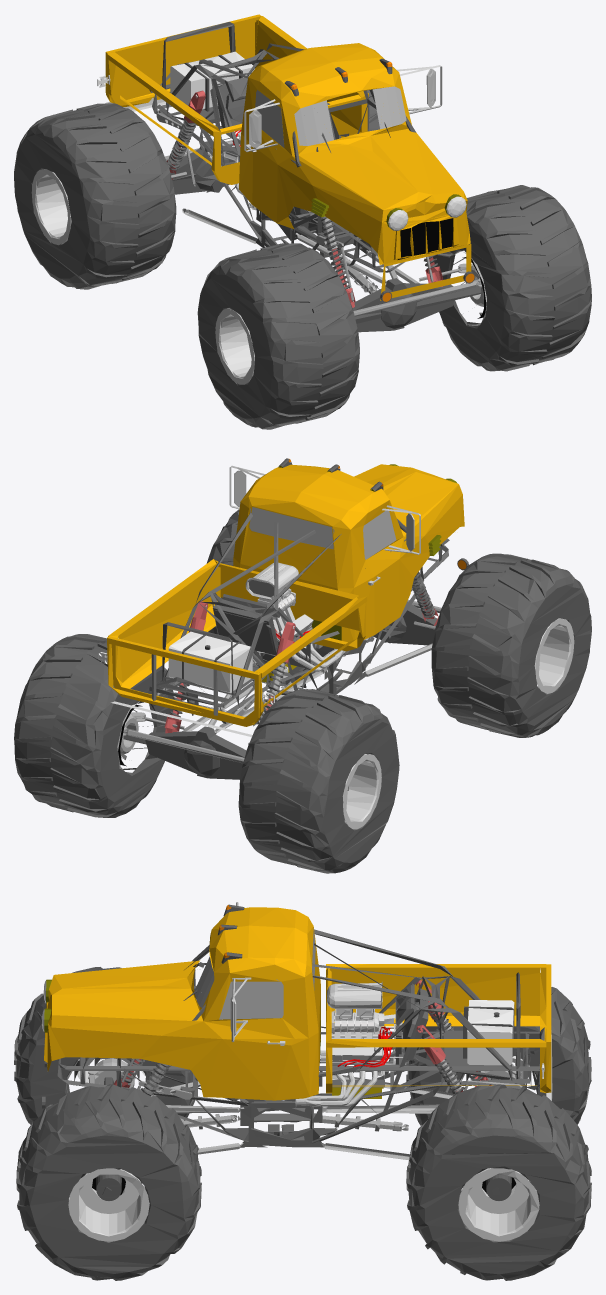
File: monster_truck.glb
3 views of the same model, one above another, from view 1: azimuth 30°, elevation 25°; view 2: azimuth 150°, elevation 25°; view 3: azimuth 270°, elevation 25° (orthographic). The views are drawn at different scales.
Visible parts, largest first — view 1: Truck:polySurface3482, Truck:Suspension:Tire_1_1, Truck:Suspension:Tire_1_4, Tire_1_3, Truck:Chassis:Chassis, Truck:TrunkBed:Mesh01, Truck:TrunkBed:Mesh07, Truck:polySurface17, Truck:Suspension:Mesh02, Truck:Mesh03, Truck:polySurface1, Truck:polySurface3481 (+7 smaller); view 2: Truck:Suspension:Tire_1_1, Truck:Suspension:Tire_1_4, Truck:polySurface3482, Truck:Suspension:Tire_1_3, Truck:TrunkBed:Mesh01, Truck:Chassis:Chassis, Truck:polySurface1, Truck:Mesh03, Truck:Chassis:Engine1:polySurface1, Truck:TrunkBed:Mesh07, Truck:polySurface21, Truck:Suspension:Mesh02 (+8 smaller); view 3: Truck:polySurface3482, Tire_1_3, Truck:Suspension:Tire_1_3, Truck:Chassis:Chassis, Truck:TrunkBed:Mesh01, Truck:Chassis:Engine1:polySurface1, Truck:Suspension:Tire_1_1, Truck:Suspension:Tire_1_4, Truck:Mesh03, Truck:polySurface14, Truck:TrunkBed:Mesh07, Truck:Chassis:DriveshaftR (+5 smaller).
Part boxes in pixels (x1,y1,x2,y2): Truck:polySurface3482: [239, 43, 471, 300]; Truck:Suspension:Tire_1_1: [14, 103, 176, 289]; Truck:Suspension:Tire_1_4: [197, 243, 359, 429]; Tire_1_3: [433, 185, 591, 371]; Truck:Chassis:Chassis: [149, 22, 453, 272]; Truck:TrunkBed:Mesh01: [107, 16, 368, 184]; Truck:TrunkBed:Mesh07: [105, 14, 261, 103]; Truck:polySurface17: [294, 86, 406, 145]; Truck:Suspension:Mesh02: [352, 278, 454, 332]; Truck:Mesh03: [170, 51, 254, 111]; Truck:polySurface1: [170, 141, 240, 194]; Truck:polySurface3481: [397, 218, 453, 259]; Truck:Suspension:Tire_1_1: [238, 689, 399, 873]; Truck:Suspension:Tire_1_4: [431, 553, 591, 737]; Truck:polySurface3482: [233, 464, 464, 642]; Truck:Suspension:Tire_1_3: [14, 634, 173, 817]; Truck:TrunkBed:Mesh01: [108, 559, 367, 723]; Truck:Chassis:Chassis: [149, 512, 449, 723]; Truck:polySurface1: [145, 726, 246, 779]; Truck:Mesh03: [168, 631, 252, 693]; Truck:Chassis:Engine1:polySurface1: [245, 562, 349, 682]; Truck:TrunkBed:Mesh07: [107, 636, 260, 726]; Truck:polySurface21: [249, 507, 334, 549]; Truck:Suspension:Mesh02: [373, 602, 436, 645]; Truck:polySurface3482: [44, 907, 320, 1100]; Tire_1_3: [16, 1084, 201, 1280]; Truck:Suspension:Tire_1_3: [406, 1084, 591, 1280]; Truck:Chassis:Chassis: [57, 929, 544, 1147]; Truck:TrunkBed:Mesh01: [326, 964, 546, 1093]; Truck:Chassis:Engine1:polySurface1: [295, 982, 406, 1107]; Truck:Suspension:Tire_1_1: [406, 987, 591, 1125]; Truck:Suspension:Tire_1_4: [14, 967, 195, 1124]; Truck:Mesh03: [463, 1000, 514, 1065]; Truck:polySurface14: [219, 979, 283, 1019]; Truck:TrunkBed:Mesh07: [546, 964, 551, 1092]; Truck:Chassis:DriveshaftR: [322, 1114, 408, 1131].
Size of the model in its own units: 0.1364 by 0.1118 by 0.2054.
